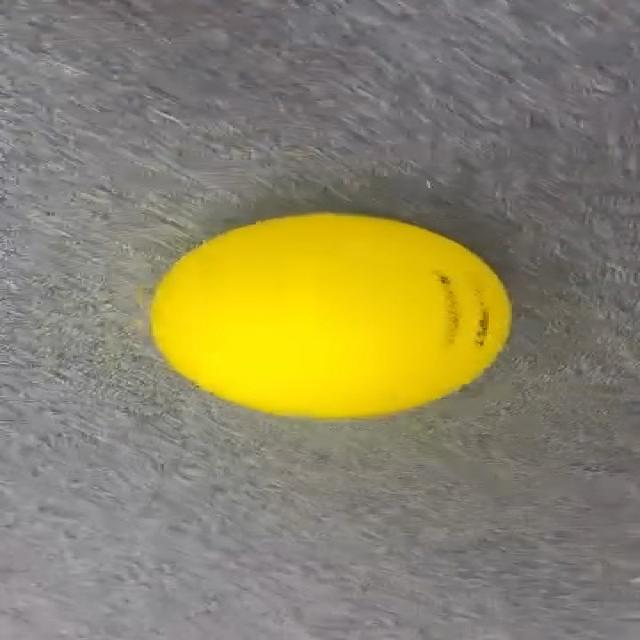Fuels: (153, 212, 507, 417)
